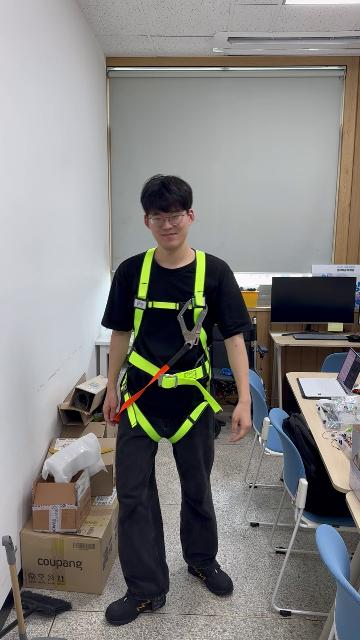helmet_not_worn: (141, 172, 197, 219)
shoe_worn: (104, 589, 165, 625), (188, 562, 233, 596)
vest_worn: (118, 254, 220, 441)
